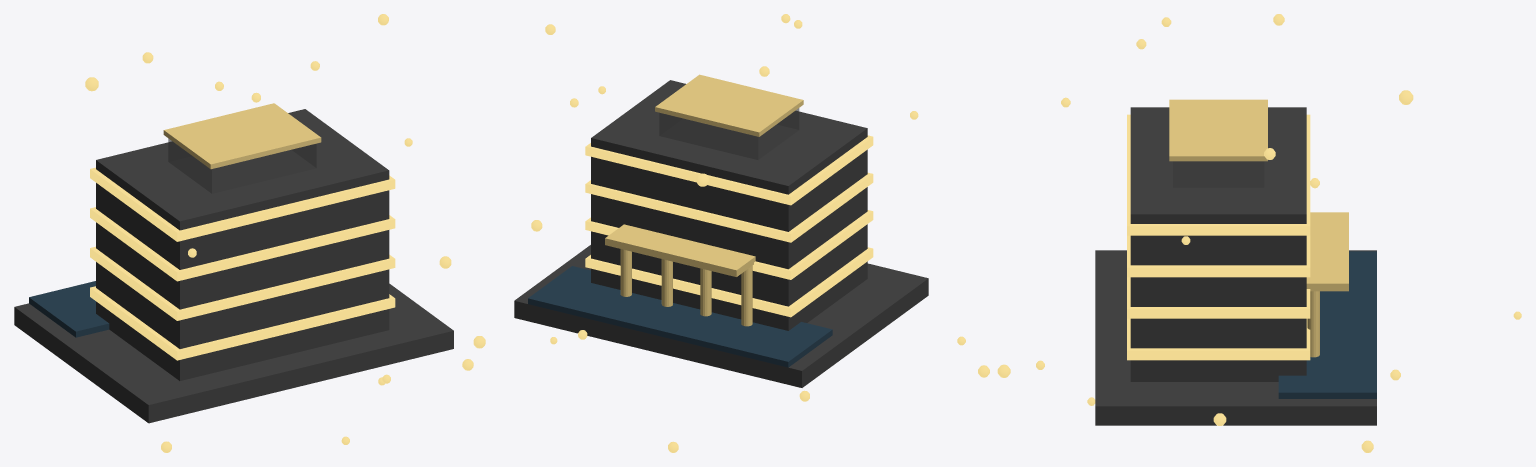
The model's file is hospitality_bubble.glb.
3 renders of one model, left to right at view 1: azimuth 30°, elevation 25°; view 2: azimuth 150°, elevation 25°; view 3: azimuth 270°, elevation 25°, orthographic. The views are drawn at different scales.
Parts seen in each view (by area): view 1: Cube.002, Cube, Cube.009, Cube.003, Cube.004, Cube.006, Cube.005, Cube.008, Cube.001; view 2: Cube.002, Cube, Cube.001, Cube.009, Cube.007, Cube.005, Cube.008, Cube.006, Cube.003, Cube.004, Cylinder, Cylinder.001 (+2 smaller); view 3: Cube.002, Cube, Cube.001, Cube.009, Cube.006, Cube.007, Cube.005, Cube.003, Cube.008, Cube.004, Cylinder.003.
Boxes of the visible parts, <box> form: Cube.002: <box>96,109,389,380</box>; Cube: <box>14,283,453,423</box>; Cube.009: <box>163,103,321,169</box>; Cube.003: <box>90,286,395,360</box>; Cube.004: <box>90,246,395,320</box>; Cube.006: <box>90,167,395,241</box>; Cube.005: <box>90,207,395,281</box>; Cube.008: <box>168,138,316,193</box>; Cube.001: <box>29,281,109,337</box>; Cube.002: <box>591,80,867,330</box>; Cube: <box>514,245,928,387</box>; Cube.001: <box>528,266,832,367</box>; Cube.009: <box>655,74,803,136</box>; Cube.007: <box>605,224,755,276</box>; Cube.005: <box>585,172,873,242</box>; Cube.008: <box>659,108,799,159</box>; Cube.006: <box>585,135,873,205</box>; Cube.003: <box>585,247,873,317</box>; Cube.004: <box>585,210,873,279</box>; Cylinder: <box>741,266,752,326</box>; Cylinder.001: <box>700,268,711,316</box>; Cube.002: <box>1130,107,1306,381</box>; Cube: <box>1095,250,1376,425</box>; Cube.001: <box>1278,251,1376,398</box>; Cube.009: <box>1169,99,1267,161</box>; Cube.006: <box>1127,114,1310,235</box>; Cube.007: <box>1306,212,1348,291</box>; Cube.005: <box>1127,235,1310,277</box>; Cube.003: <box>1127,318,1310,360</box>; Cube.008: <box>1173,161,1263,187</box>; Cube.004: <box>1127,277,1310,318</box>; Cylinder.003: <box>1307,291,1319,357</box>.
Bounding box in the file's own units: 1.24 × 1.3 × 1.6.
